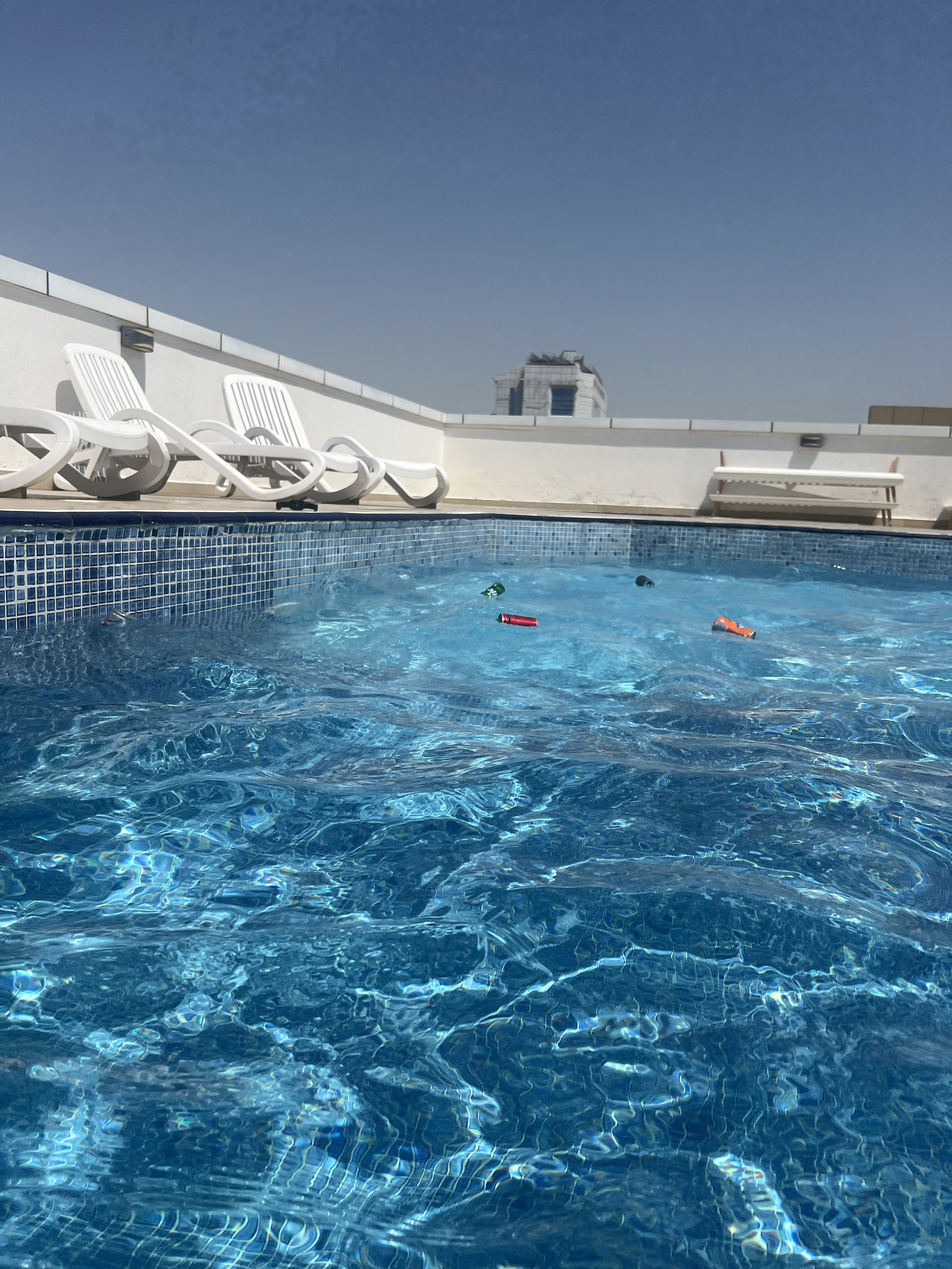debris: (711, 610, 756, 651), (495, 606, 539, 638), (477, 574, 507, 605)
